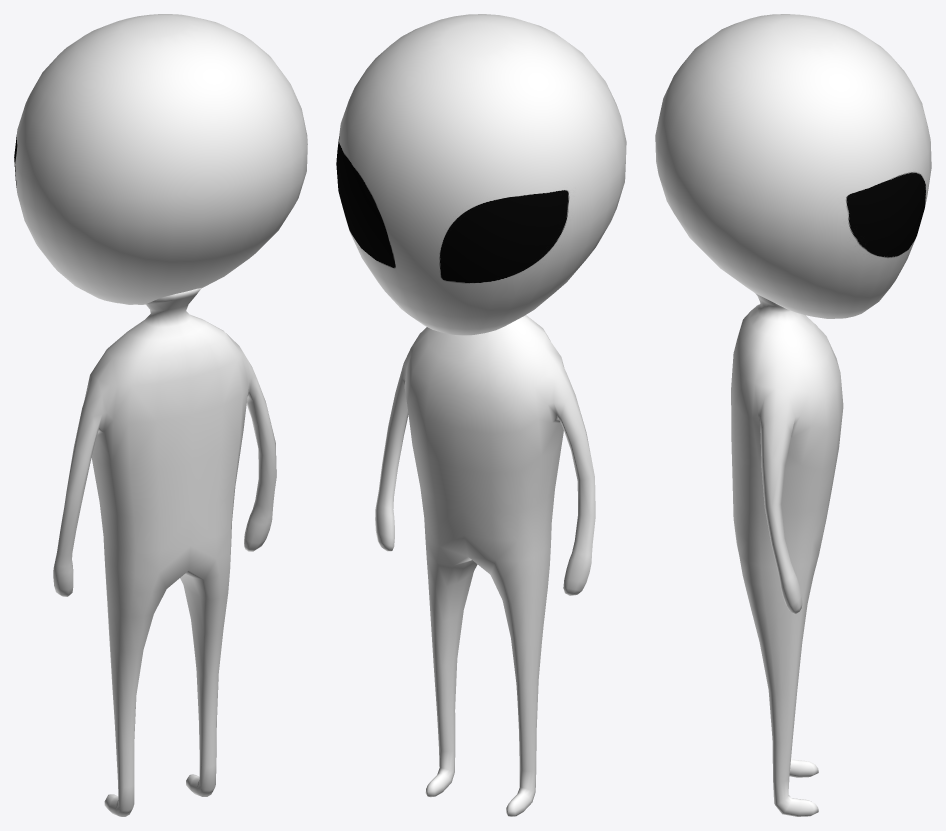
The model's file is alien.obj.
3 views of the same model, side by side, from view 1: azimuth 30°, elevation 25°; view 2: azimuth 150°, elevation 25°; view 3: azimuth 270°, elevation 25° (orthographic).
Parts seen in each view (by area): view 1: Sphere.001; view 2: Sphere.001; view 3: Sphere.001.
Part boxes in pixels (bbox=[...]): Sphere.001: bbox=[14, 14, 307, 816]; Sphere.001: bbox=[336, 14, 626, 816]; Sphere.001: bbox=[655, 14, 931, 816].
Size of the model in its own units: 1.48 by 4.27 by 1.4.
1 material, 1 textured.
